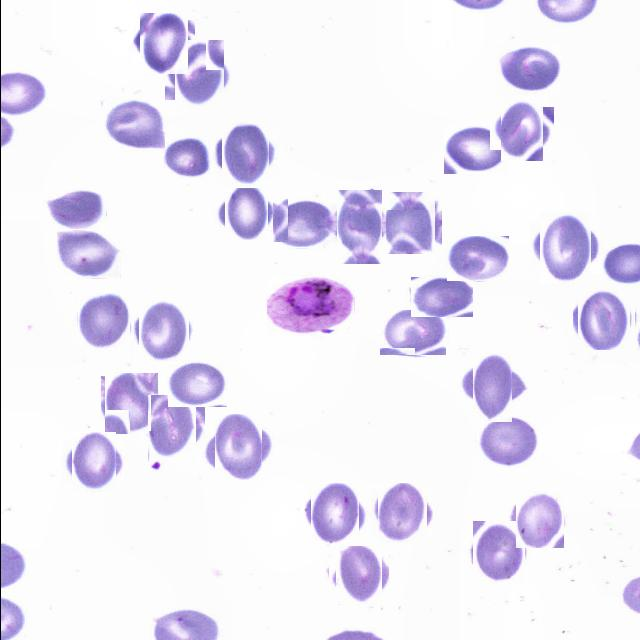difficult: (266, 276, 354, 336)
red blood cell: (534, 217, 596, 279), (169, 45, 229, 105), (329, 196, 389, 256), (102, 374, 160, 432), (469, 524, 527, 582), (134, 302, 192, 360), (216, 126, 274, 184), (142, 399, 199, 457), (496, 44, 560, 95), (209, 419, 266, 476), (574, 292, 632, 348), (272, 199, 338, 248), (102, 100, 166, 150), (474, 416, 536, 467), (464, 358, 520, 414), (382, 195, 438, 251), (379, 310, 446, 356), (306, 486, 362, 541), (56, 231, 120, 279), (135, 17, 190, 72), (76, 294, 130, 350), (443, 126, 506, 174), (374, 486, 428, 542), (494, 101, 548, 156), (446, 236, 508, 281), (512, 494, 565, 546), (167, 361, 226, 407), (332, 550, 384, 602), (66, 436, 118, 488), (409, 277, 472, 317), (220, 188, 270, 238), (47, 188, 106, 230), (164, 138, 214, 177)
